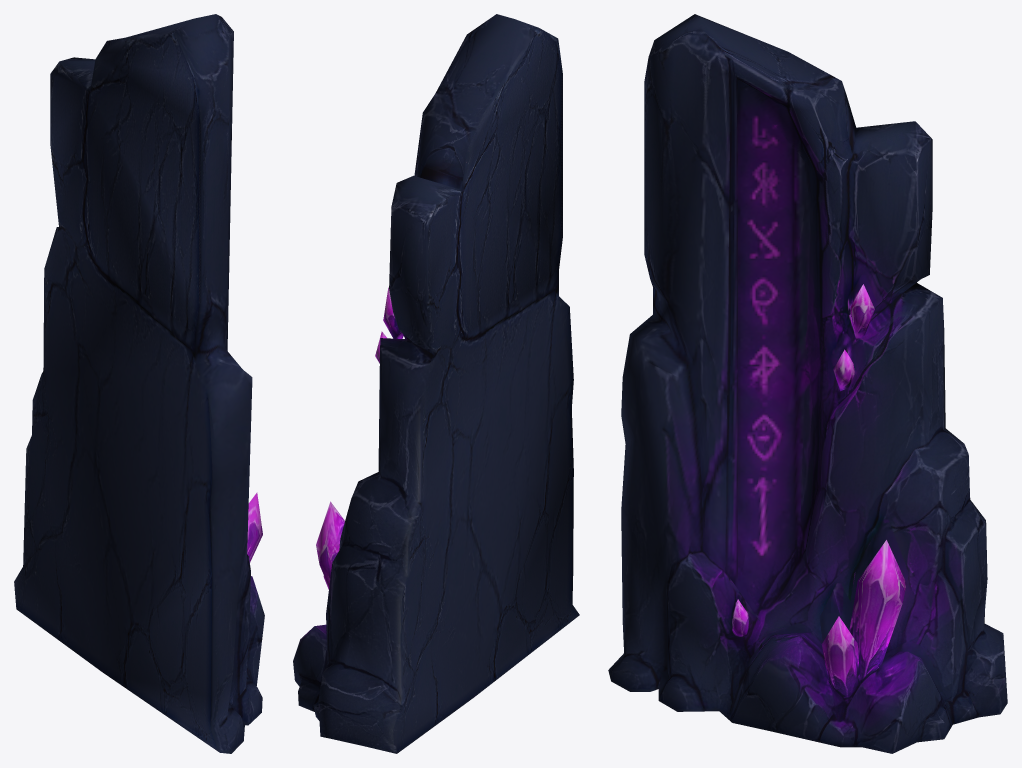
Rendered from fantasy+crystal+obelisk+3d+model.fbx.
3 renders of one model, left to right at view 1: azimuth 30°, elevation 25°; view 2: azimuth 150°, elevation 25°; view 3: azimuth 270°, elevation 25°, orthographic. The views are drawn at different scales.
Visible parts, largest first — view 1: meshes[0]; view 2: meshes[0]; view 3: meshes[0].
Part boxes in pixels (box(x1,y1,x2,y2)): meshes[0]: box(14, 14, 264, 753); meshes[0]: box(293, 14, 579, 753); meshes[0]: box(608, 14, 1007, 753).
Size of the model in its own units: 0.252 by 0.998 by 0.541.
